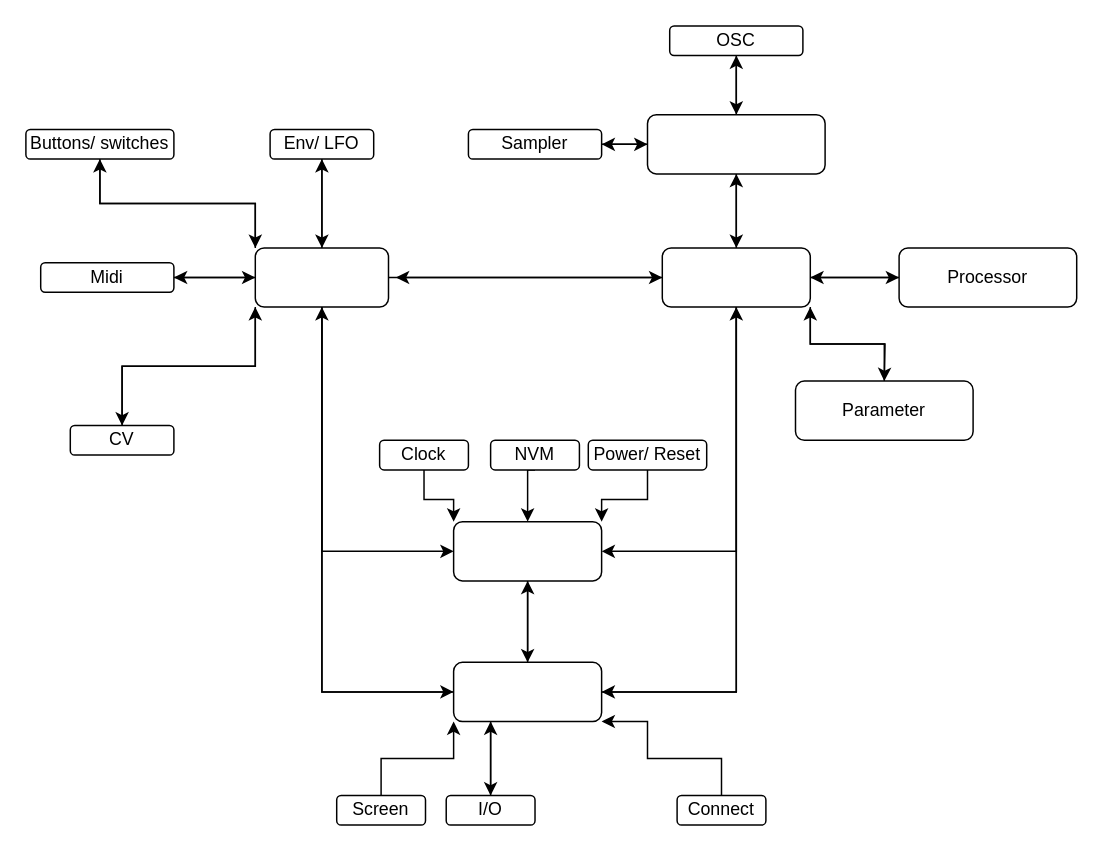
This 1103x851 diagram has some shape labels left out. The box of each missing label's shape, as (x1, y1, x2, y2) in pixels:
Generator: (646, 113, 825, 174)
Modifier: (254, 246, 388, 307)
System: (452, 520, 602, 581)
UI: (452, 661, 602, 722)
Voice: (661, 246, 810, 307)
